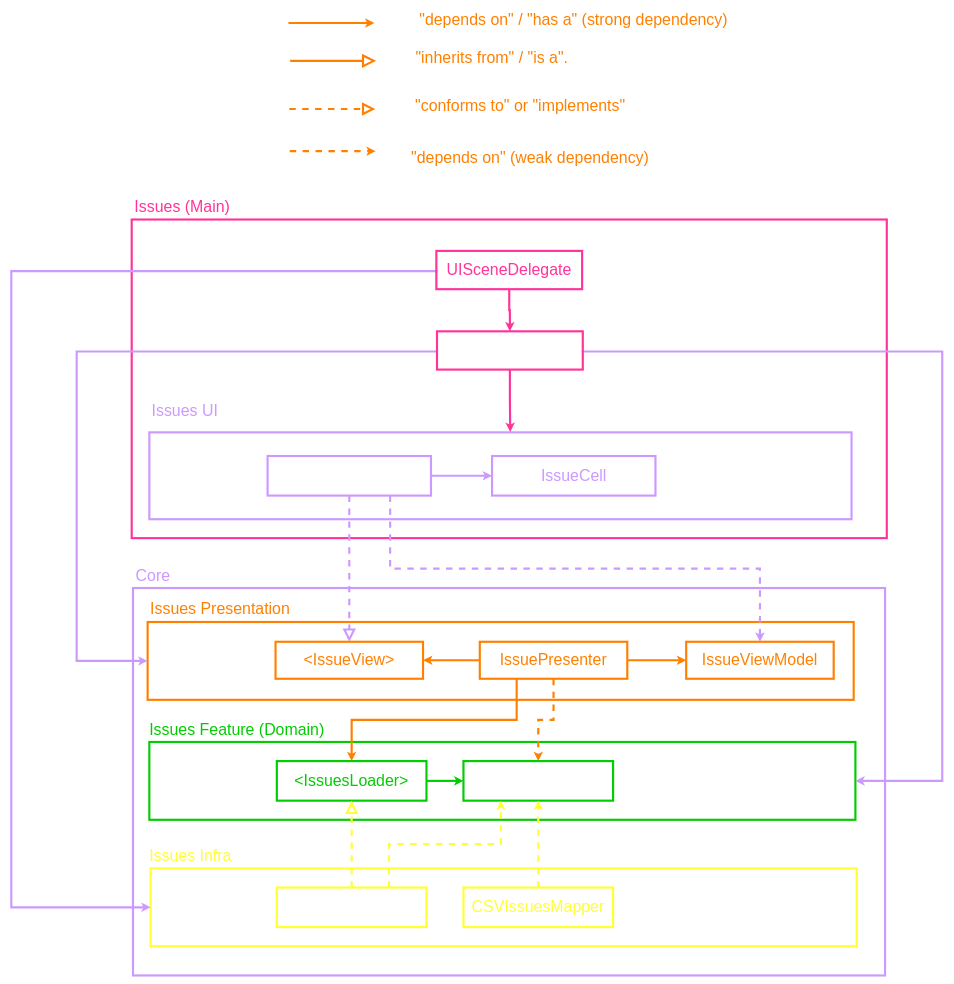
Image size: 954x984. Some labels were removed from this diagram. Each missing label, with the centre of its shape:
Issue: (x=538, y=781)
IssuesUIComposer: (x=510, y=350)
IssuesViewController: (x=349, y=475)
LocalIssuesLoader: (x=351, y=907)
